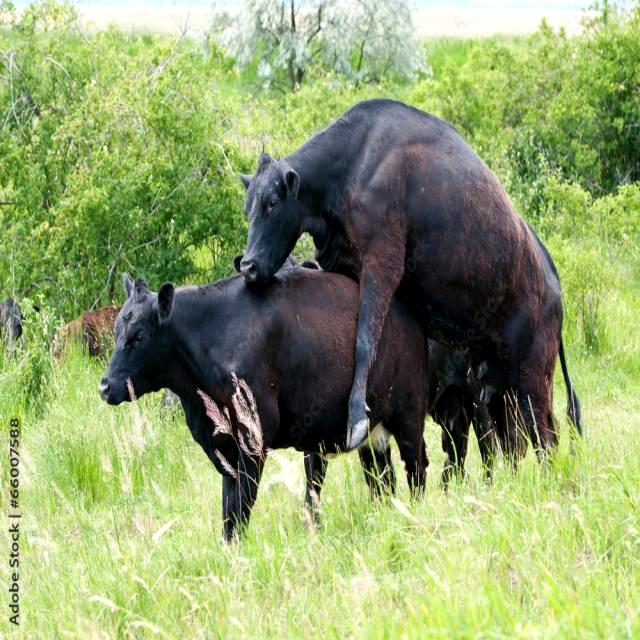COW: (239, 99, 581, 451), (100, 266, 359, 540), (359, 299, 428, 494)
